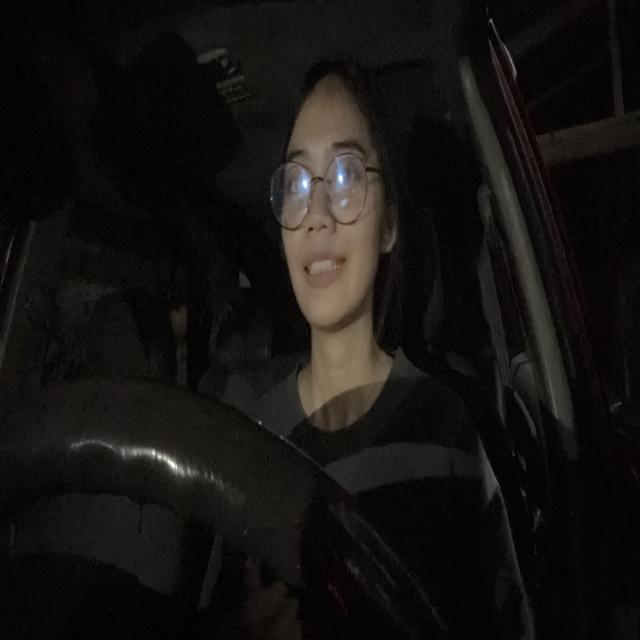open: (324, 137, 370, 198), (279, 142, 314, 206)
